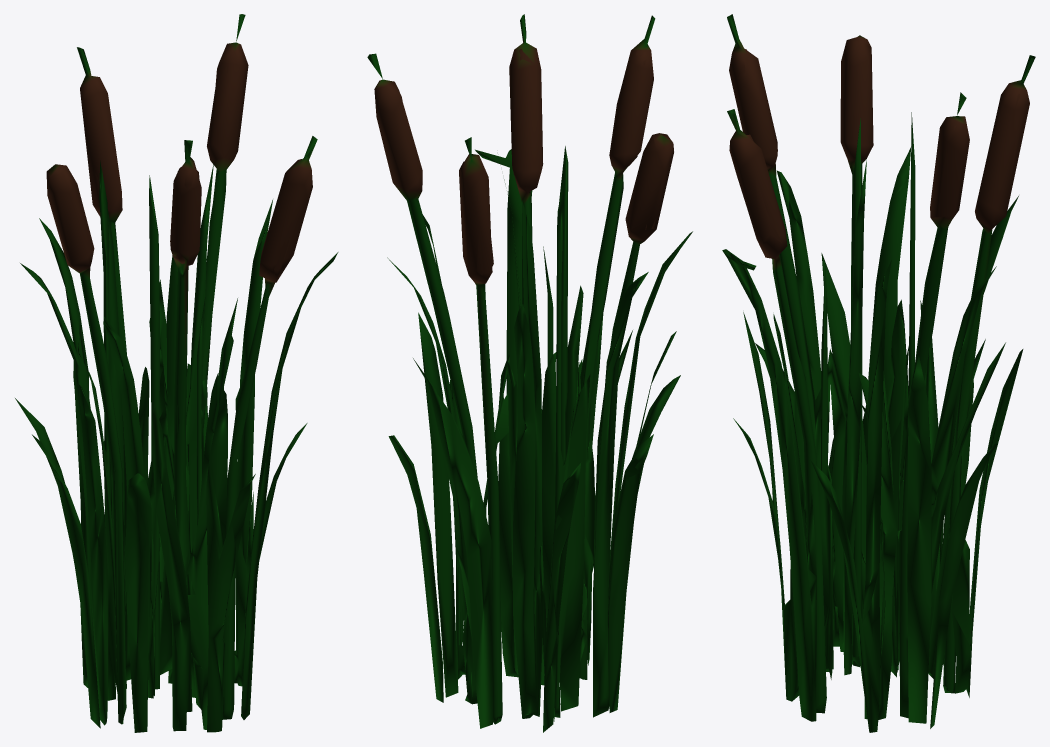
Rendered from gen3d-cattail-lod1.glb.
3 views of the same model, side by side, from view 1: azimuth 30°, elevation 25°; view 2: azimuth 150°, elevation 25°; view 3: azimuth 270°, elevation 25° (orthographic). The views are drawn at different scales.
Visible parts, largest first — view 1: part_0; view 2: part_0; view 3: part_0.
Part boxes in pixels (box(x1,y1,x2,y2)): part_0: box(15, 14, 338, 732); part_0: box(367, 14, 692, 732); part_0: box(722, 14, 1035, 732).
Size of the model in its own units: 0.4124 by 0.998 by 0.4288.
